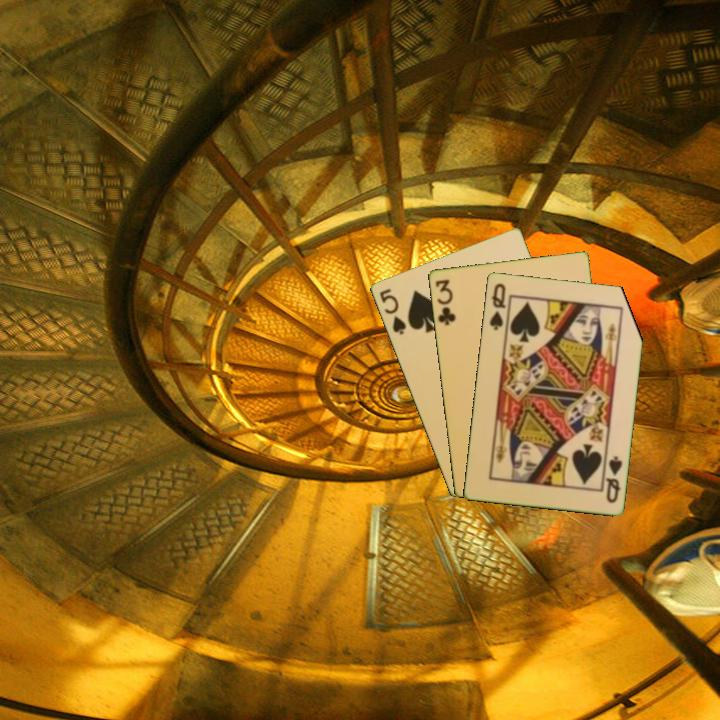3c: (432, 276, 458, 328)
5s: (376, 285, 409, 338)
Qs: (599, 452, 625, 505), (486, 279, 508, 333)
